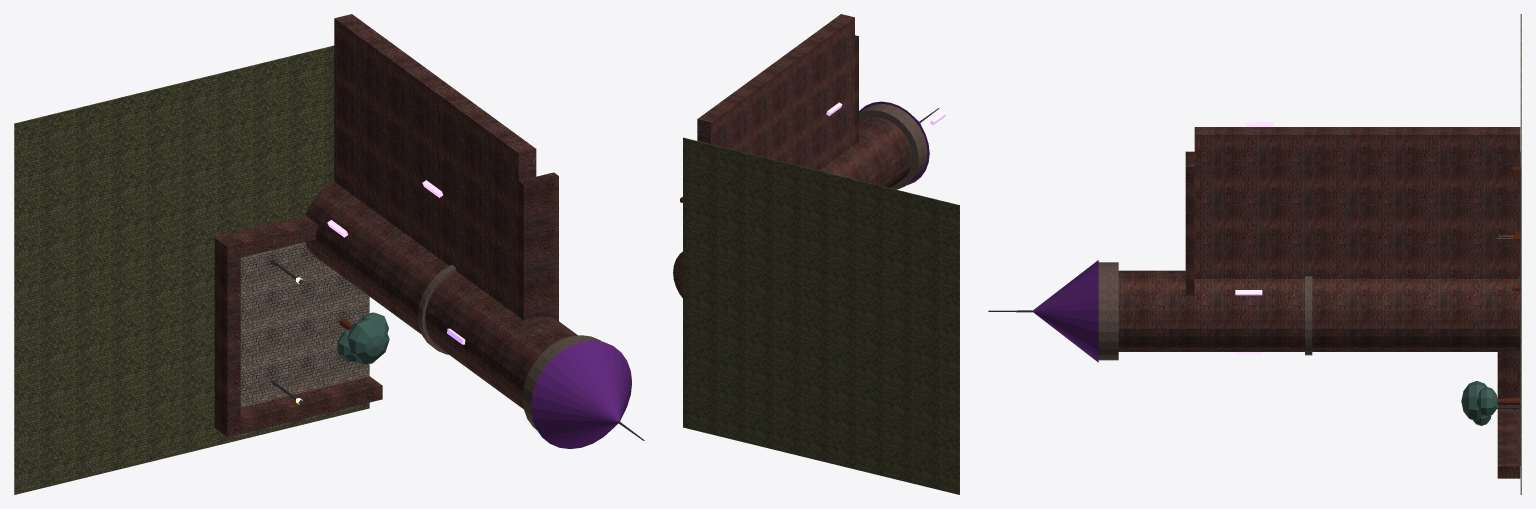
The model's file is keep_t0_0.gltf.
3 views of the same model, side by side, from view 1: azimuth 30°, elevation 25°; view 2: azimuth 150°, elevation 25°; view 3: azimuth 270°, elevation 25° (orthographic). The views are drawn at different scales.
Parts seen in each view (by area): view 1: keep_t0_0_ground, keep_t0_0_wallg, keep_t0_0_wallg_out, keep_t0_0_cobble_big, keep_t0_0_banner_p, keep_t0_0_roof, keep_t0_0_stone, keep_t0_0_leaf; view 2: keep_t0_0_ground, keep_t0_0_wallg, keep_t0_0_wallg_out, keep_t0_0_stone, keep_t0_0_roof, keep_t0_0_banner_p; view 3: keep_t0_0_wallg, keep_t0_0_wallg_out, keep_t0_0_banner_p, keep_t0_0_stone, keep_t0_0_roof, keep_t0_0_leaf, keep_t0_0_ground.
Part boxes in pixels (box(x1,y1,x2,y2)): keep_t0_0_ground: box(14, 45, 369, 494); keep_t0_0_wallg: box(334, 14, 536, 316); keep_t0_0_wallg_out: box(214, 182, 577, 437); keep_t0_0_cobble_big: box(240, 242, 369, 407); keep_t0_0_banner_p: box(531, 340, 631, 448); keep_t0_0_roof: box(518, 172, 558, 320); keep_t0_0_stone: box(418, 265, 601, 429); keep_t0_0_leaf: box(337, 312, 389, 363); keep_t0_0_ground: box(683, 138, 959, 494); keep_t0_0_wallg: box(697, 14, 854, 170); keep_t0_0_wallg_out: box(673, 117, 912, 297); keep_t0_0_stone: box(859, 104, 927, 189); keep_t0_0_roof: box(855, 35, 858, 144); keep_t0_0_banner_p: box(859, 101, 929, 185); keep_t0_0_wallg: box(1194, 127, 1520, 278); keep_t0_0_wallg_out: box(1118, 270, 1520, 478); keep_t0_0_banner_p: box(1033, 260, 1098, 362); keep_t0_0_stone: box(1098, 262, 1312, 360); keep_t0_0_roof: box(1185, 151, 1194, 295); keep_t0_0_leaf: box(1461, 381, 1498, 425); keep_t0_0_ground: box(1520, 14, 1521, 494).
Size of the model in its own units: 42.7 by 43 by 58.94.
Materials: 14 (8 with a texture image).
